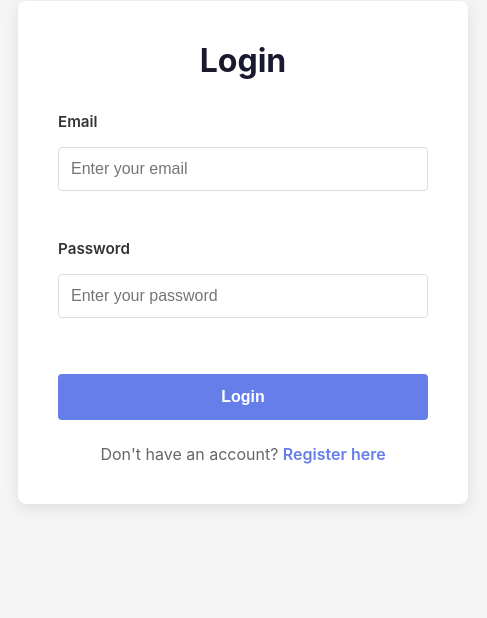
Test: LoginForm › validates empty fields
Click the button "Login".
click(243, 397)  # box [58,374,428,420]
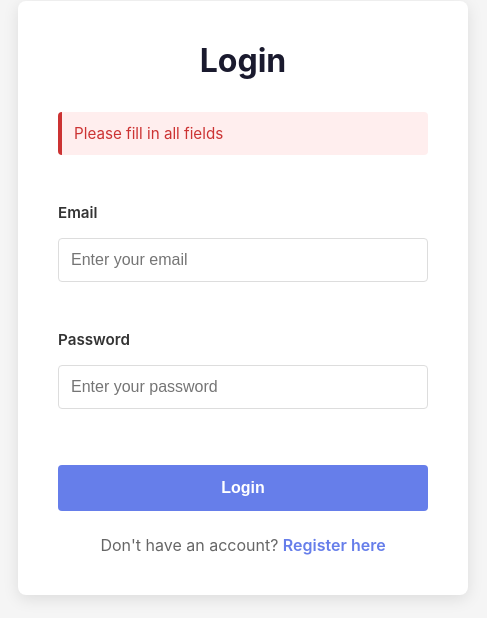
Expected: the text "Please fill in all fields" is shown, [58,112,428,155]
